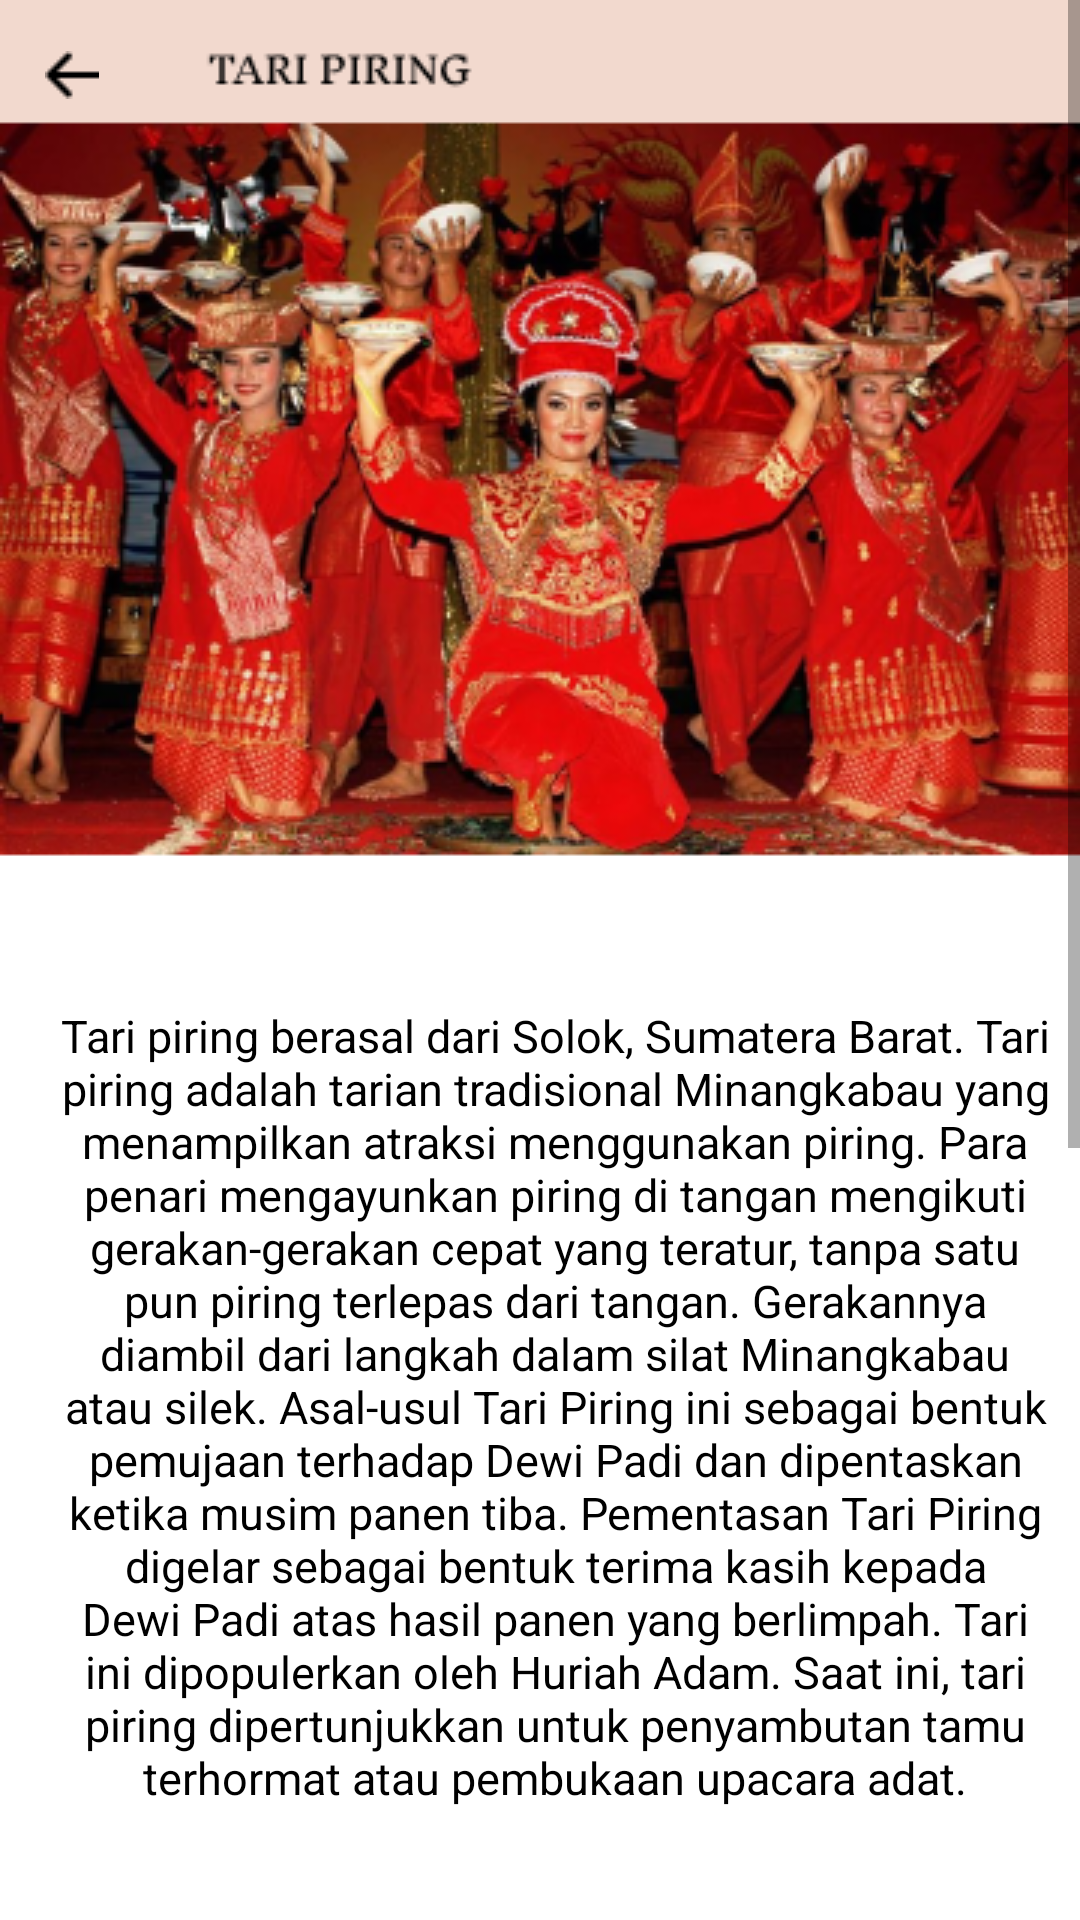

Named icons in this screenshot (1080px×1920px) and their bounding boxes, (x1, y1, x2, y2):
back: (45, 51, 99, 99)
